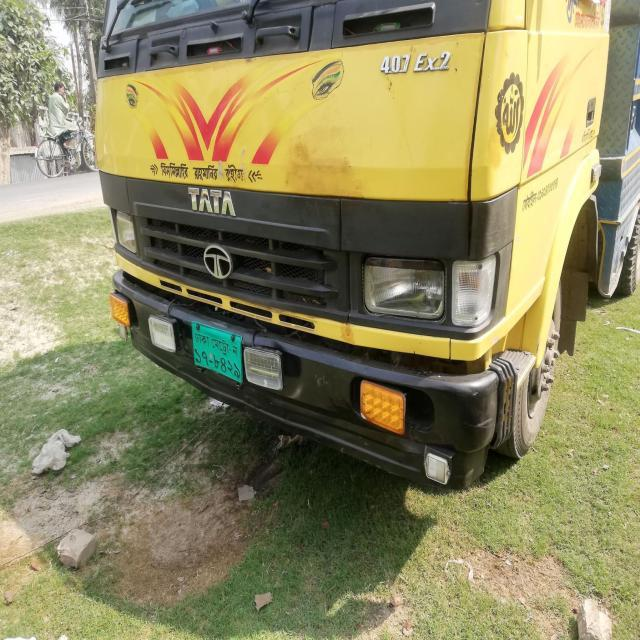numberplate: (189, 320, 244, 385)
